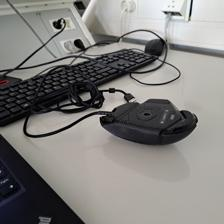mouse: (98, 97, 199, 146)
